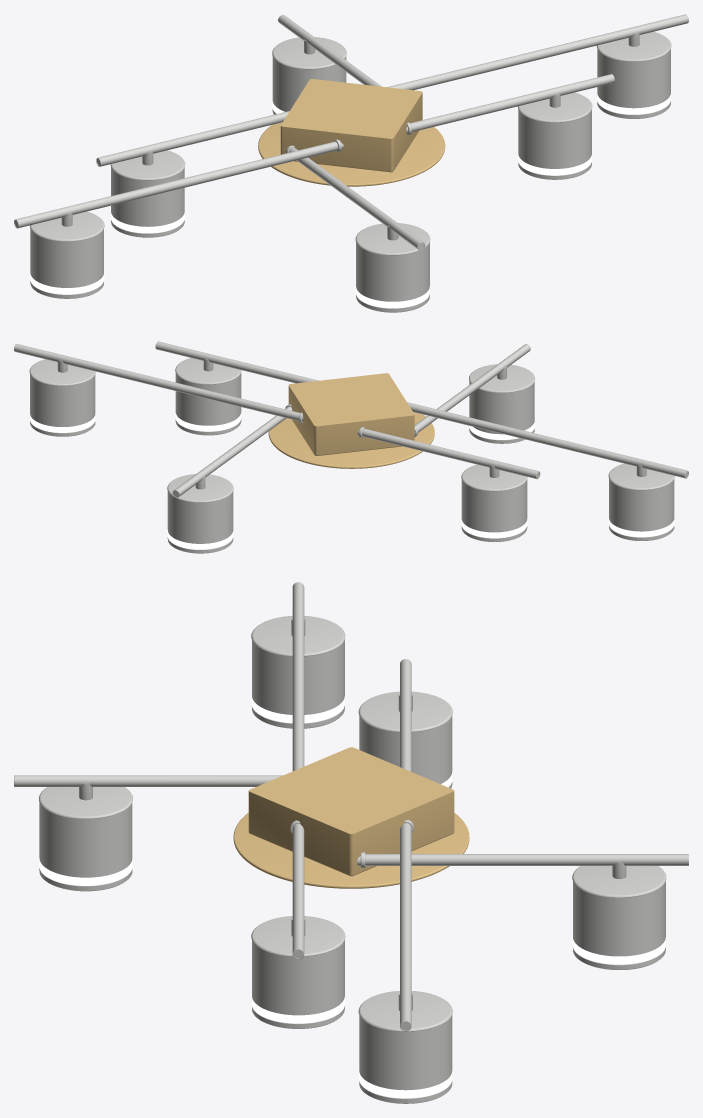
3 views of the same model, one above another, from view 1: azimuth 30°, elevation 25°; view 2: azimuth 150°, elevation 25°; view 3: azimuth 270°, elevation 25° (orthographic). The views are drawn at different scales.
Visible parts, largest first — view 1: frame, gold, gx53_band; view 2: frame, gold, gx53_band; view 3: frame, gold, gx53_band.
Part boxes in pixels (x1,y1,x2,y2): frame: (14,14,688,312); gold: (258,79,445,186); gx53_band: (30,92,670,308); frame: (14,341,688,553); gold: (268,373,434,468); gx53_band: (29,413,674,549); frame: (14,582,688,1103); gold: (233,747,469,888); gx53_band: (39,695,665,1098).
Bounding box in the file's own units: 0.88 × 0.1129 × 0.572.
